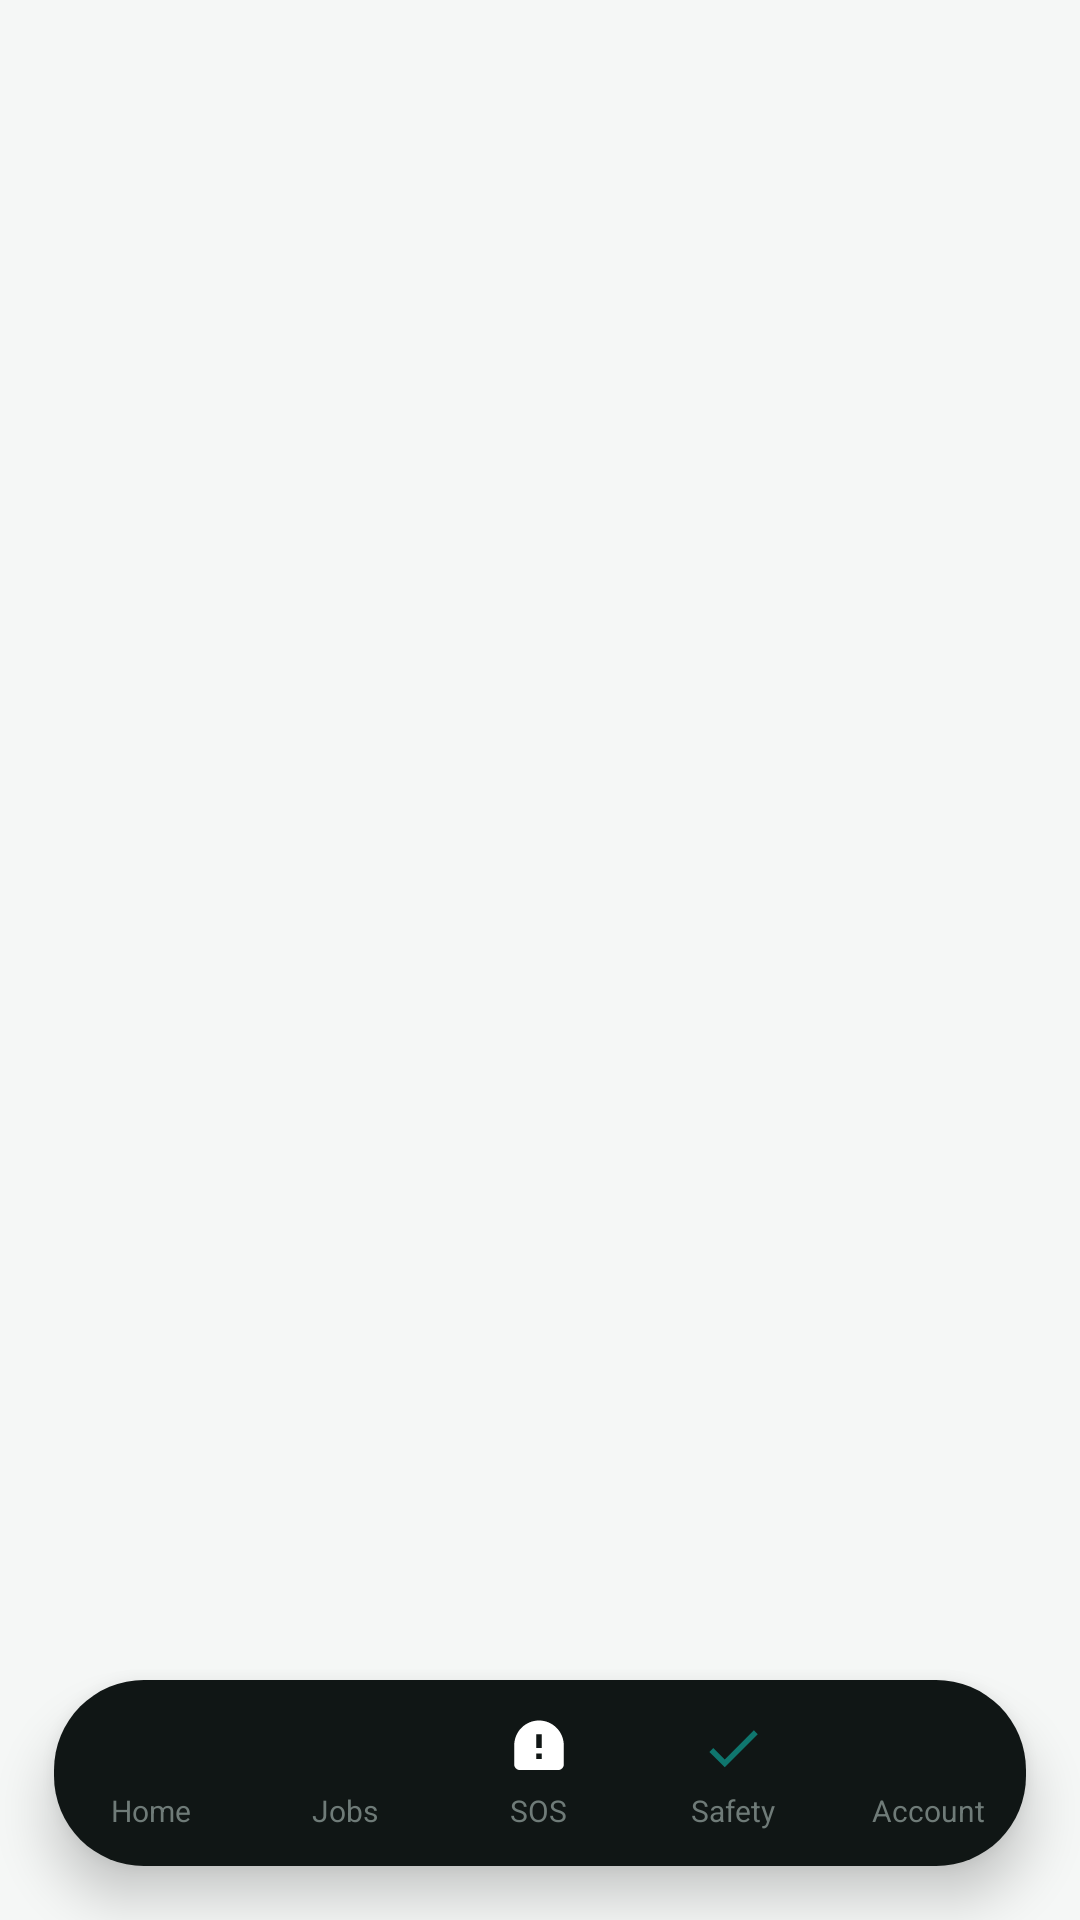

Point at icon controls on the screen. Image size 1080w x 1920h, points as (x,y).
check: (734,1748)
